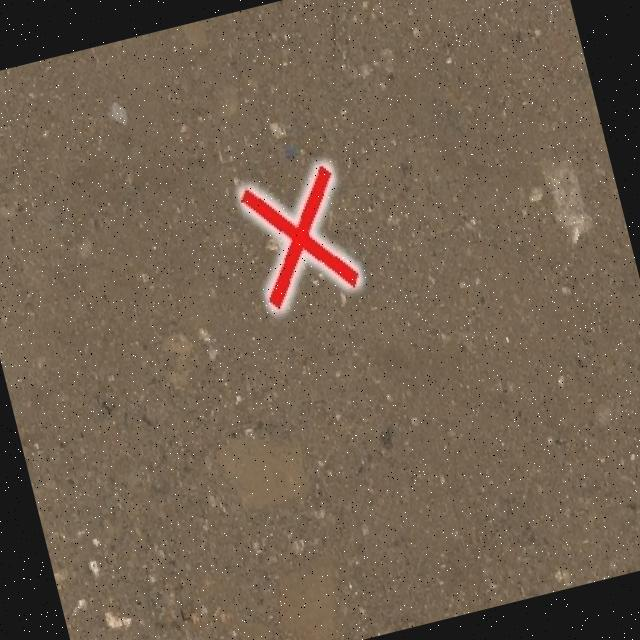x_marker: (238, 162, 360, 310)
